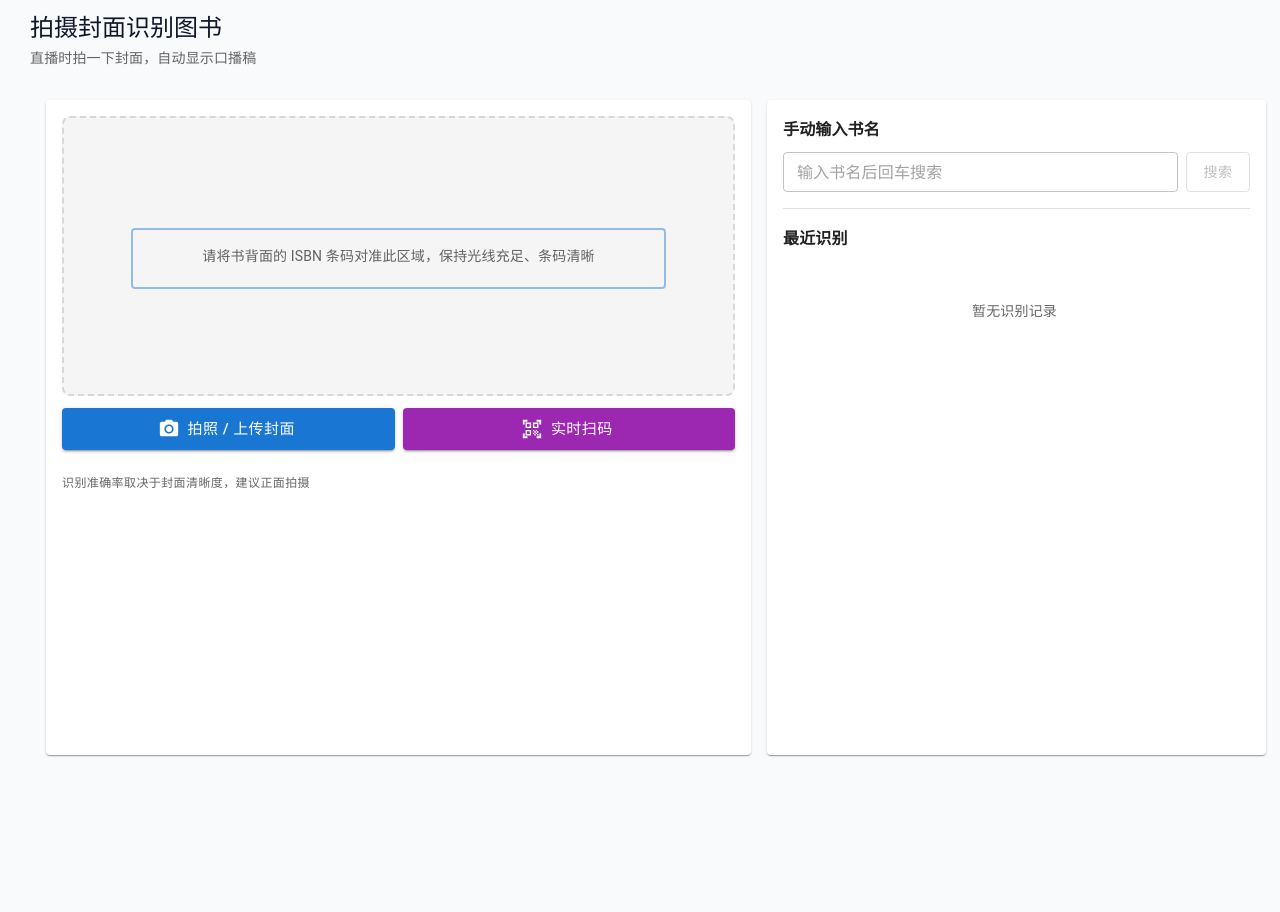
ScanCover › shows error message when manual search fails
Type "Pragmatic" into the field with placeholder "输入书名后回车搜索".
click(980, 172); type("Pragmatic")  # box left=783, top=152, right=1178, bottom=192
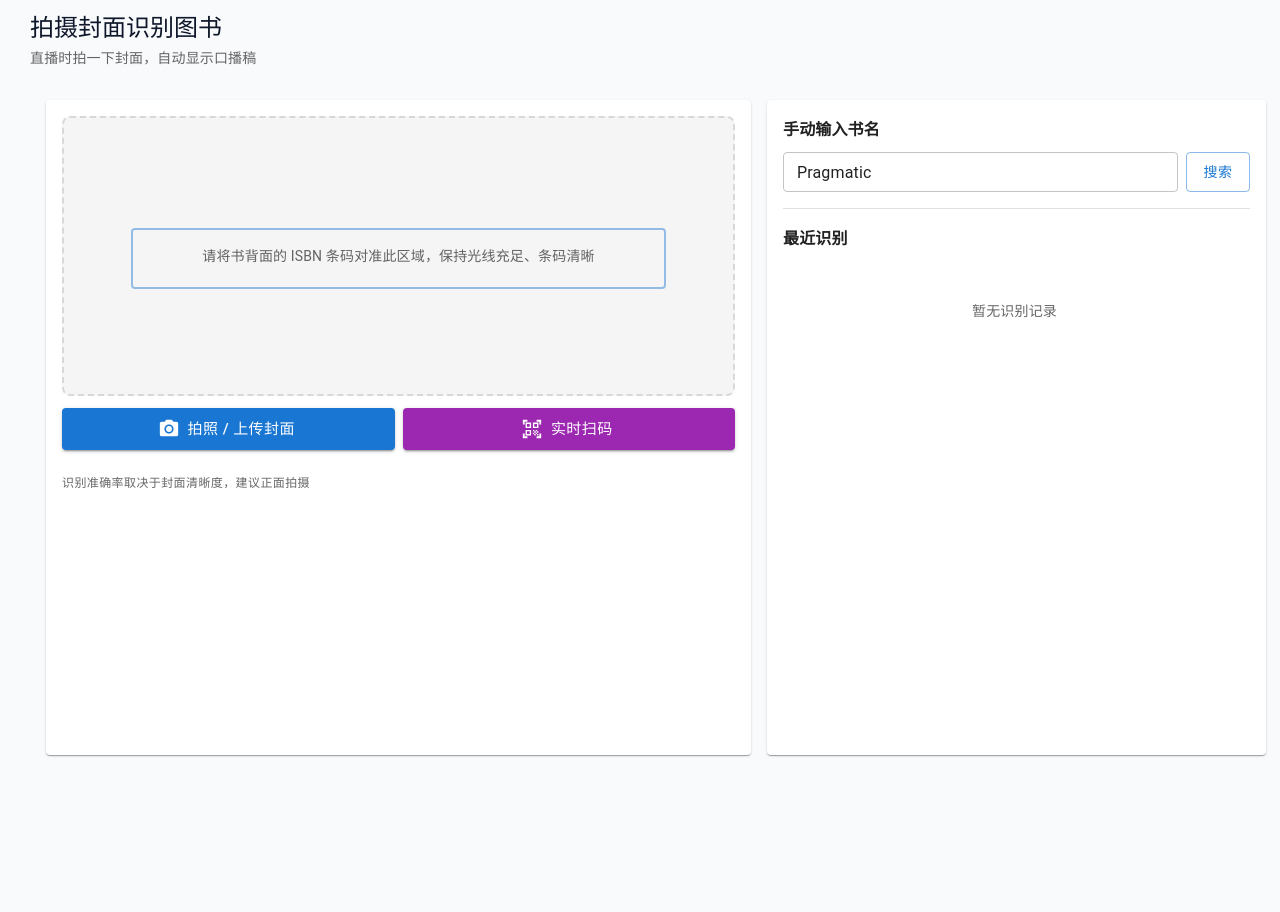
Click the button "搜索".
click(1218, 172)  # box left=1186, top=152, right=1250, bottom=192
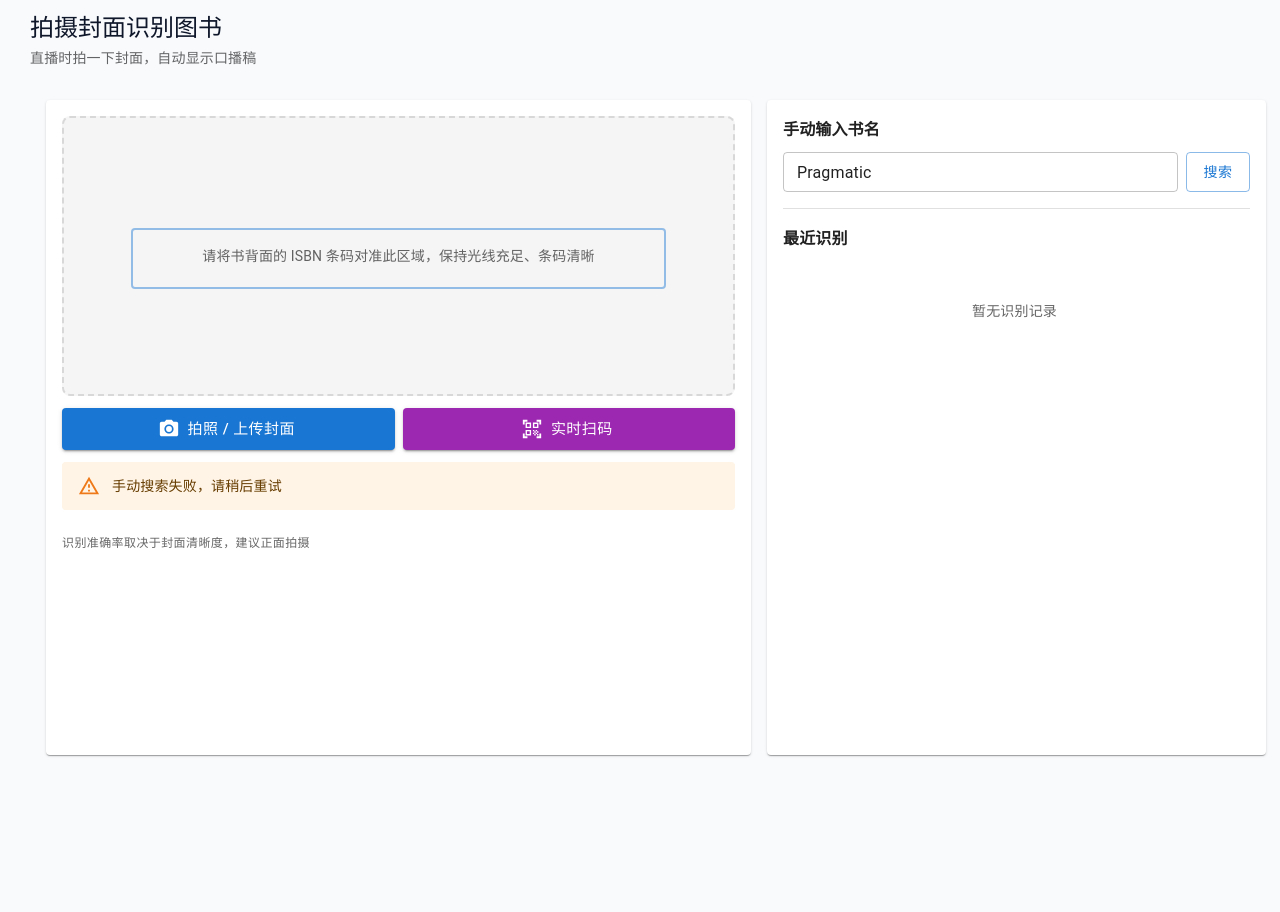
Now the text "手动搜索失败，请稍后重试" is shown, box left=112, top=478, right=282, bottom=494
